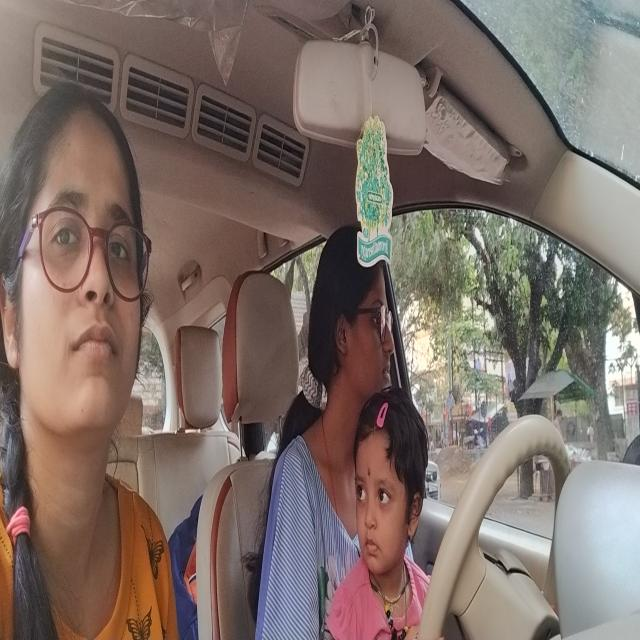child: (354, 381, 429, 577)
person: (0, 76, 159, 480), (312, 217, 397, 427)
